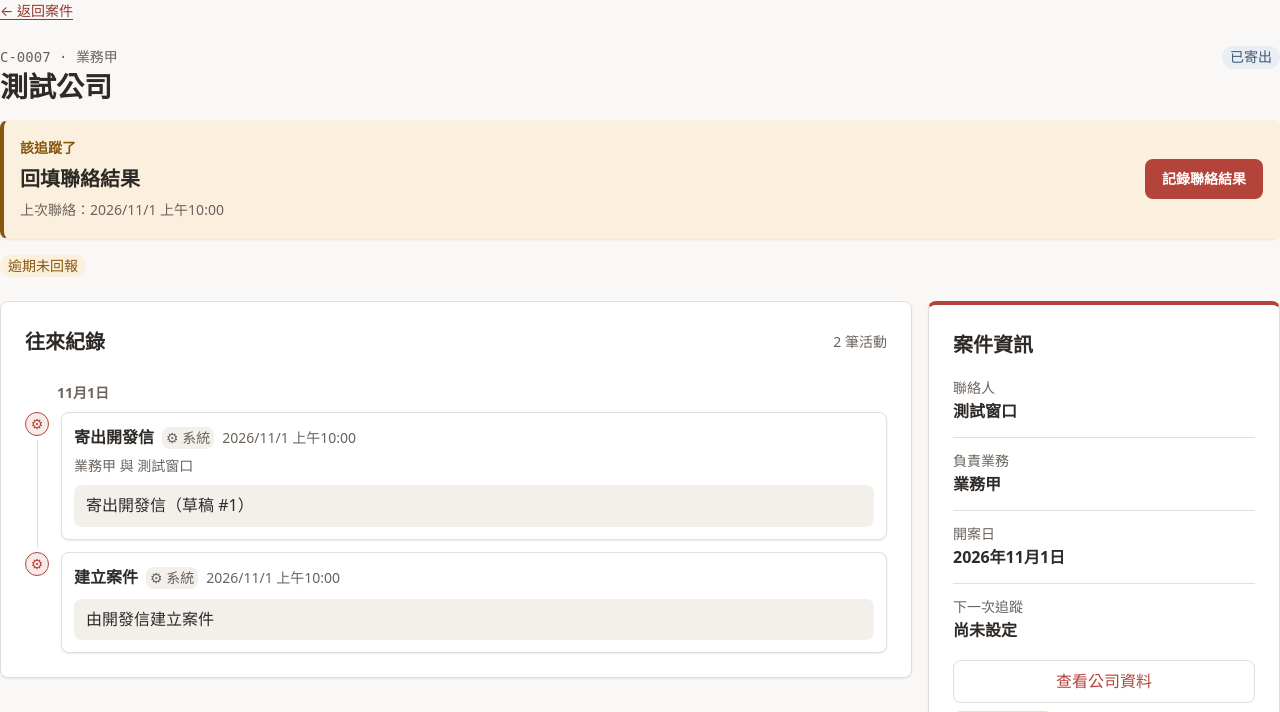
Test case: M3-11 案件頁 › test_f_case_2_backfill_form_posts_update：回填送出管道、結果、備註、下次追蹤日
Expected: the text "寄出開發信（草稿 #1）" is shown, [74,485,874,527]
Click the button "記錄聯絡結果". click: (1204, 179)
box: [1145,159,1263,199]
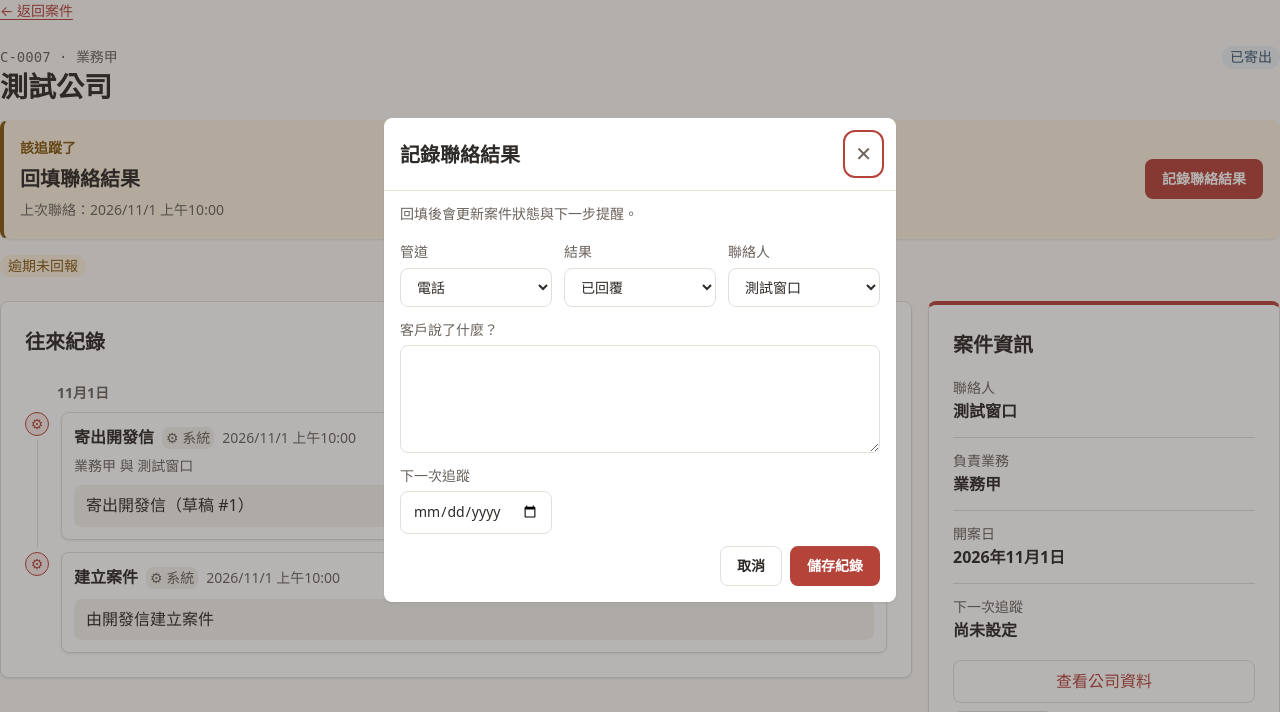
Select "拜訪" in the dropdown labelled "管道". click: (476, 287)
box: [400,268,552,307]
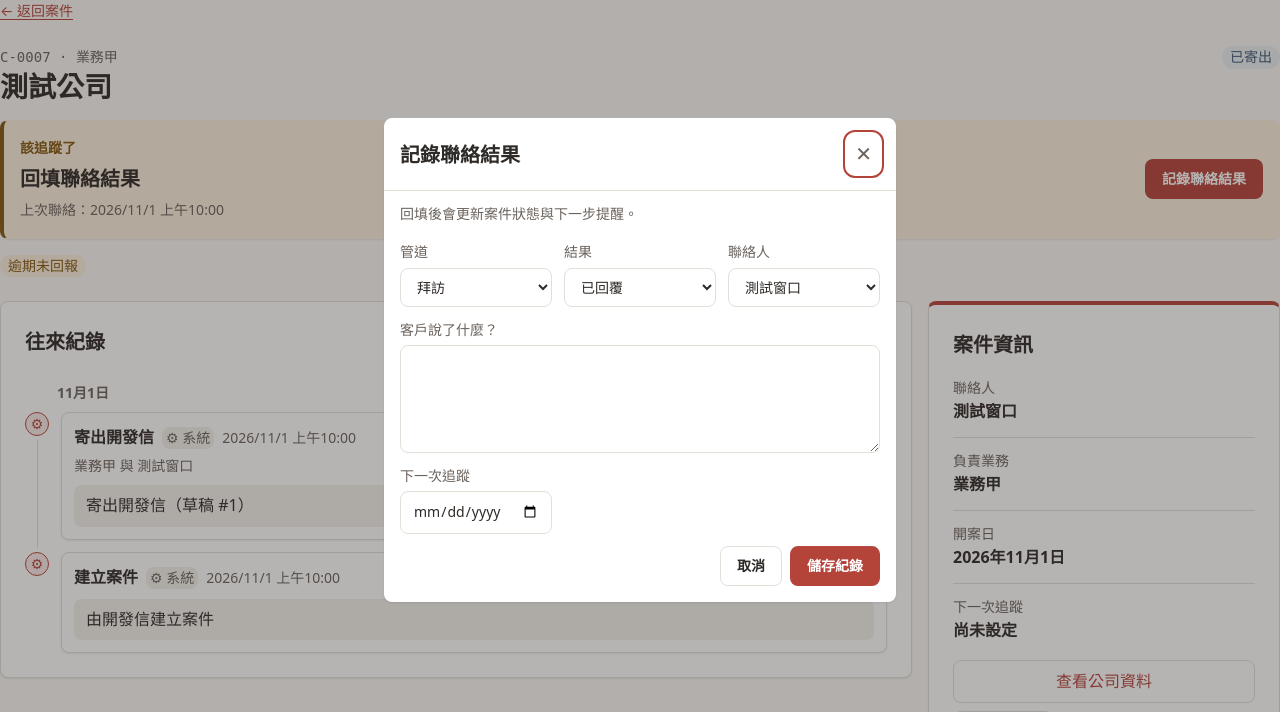
Select "洽談中" in the dropdown labelled "結果". click: (640, 287)
box: [564,268,716,307]
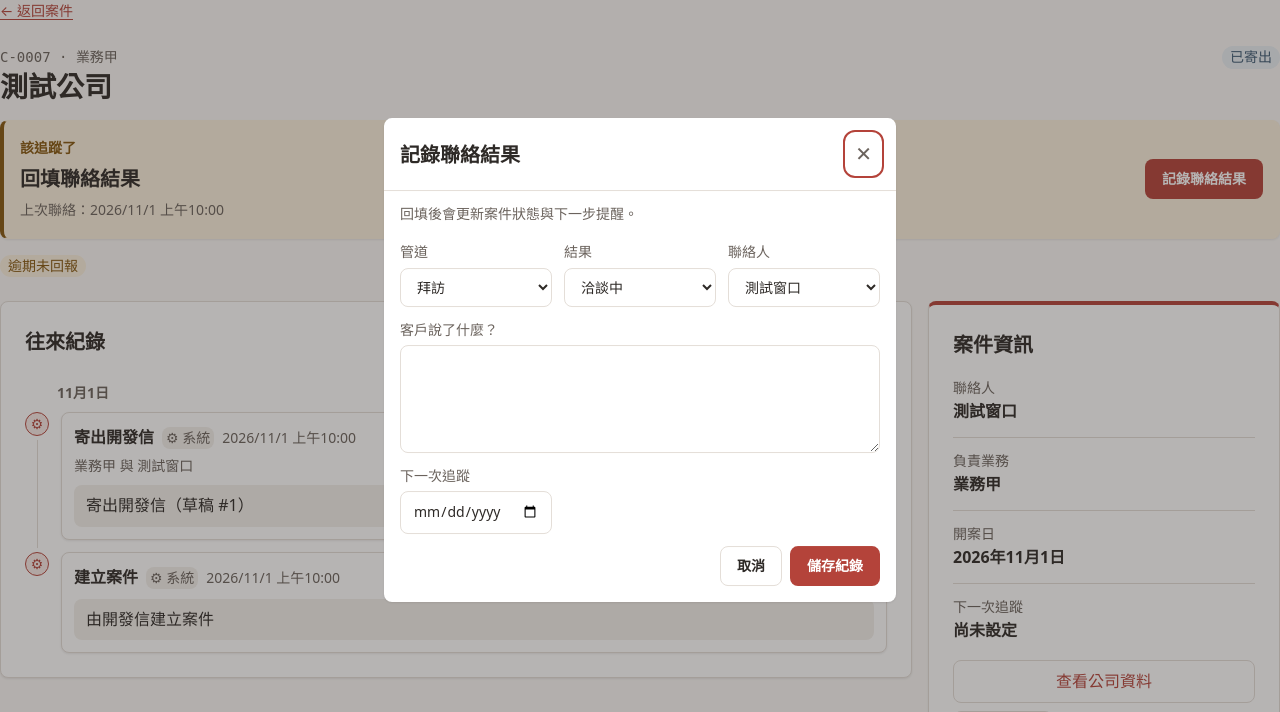
Type "  客戶要報價  " into the text box labelled "客戶說了什麼？". click: (640, 399)
box: [400,345,880,453]
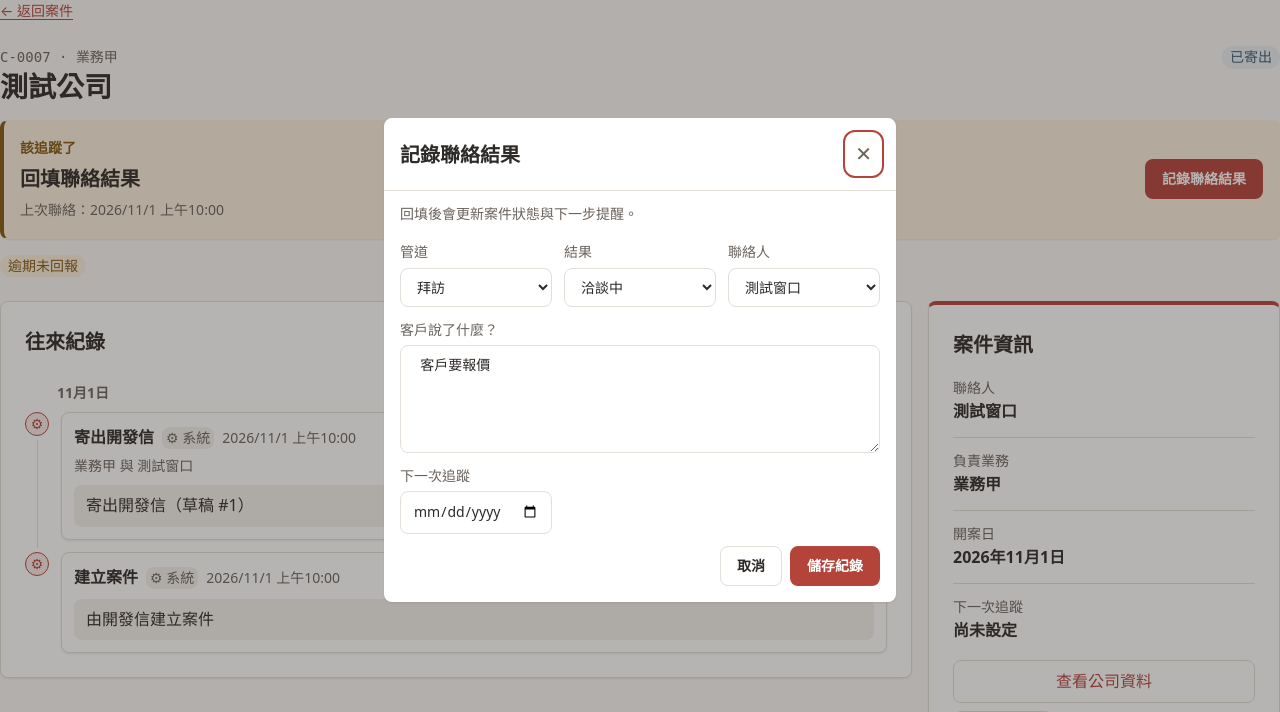
Type "2099-01-02" into the date field labelled "下一次追蹤". click: (476, 512)
box: [400,491,552,534]
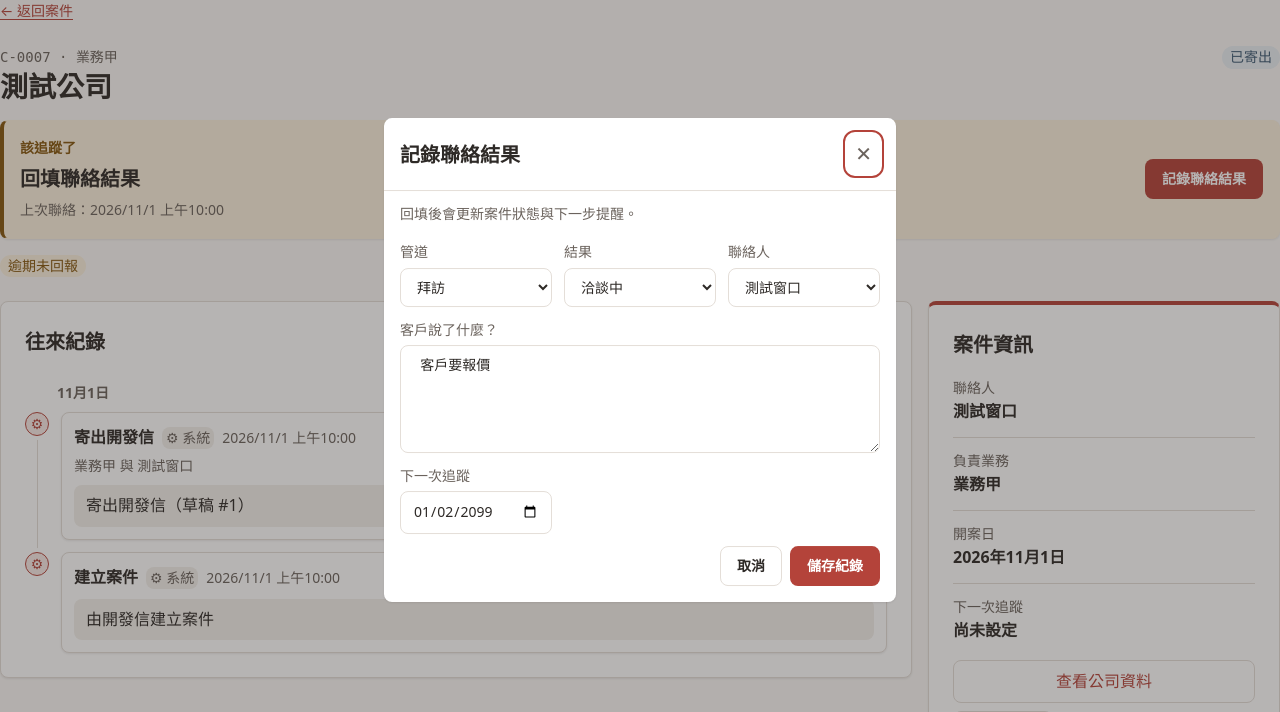
Click the button "儲存紀錄". click: (835, 566)
box: [790,546,880,586]
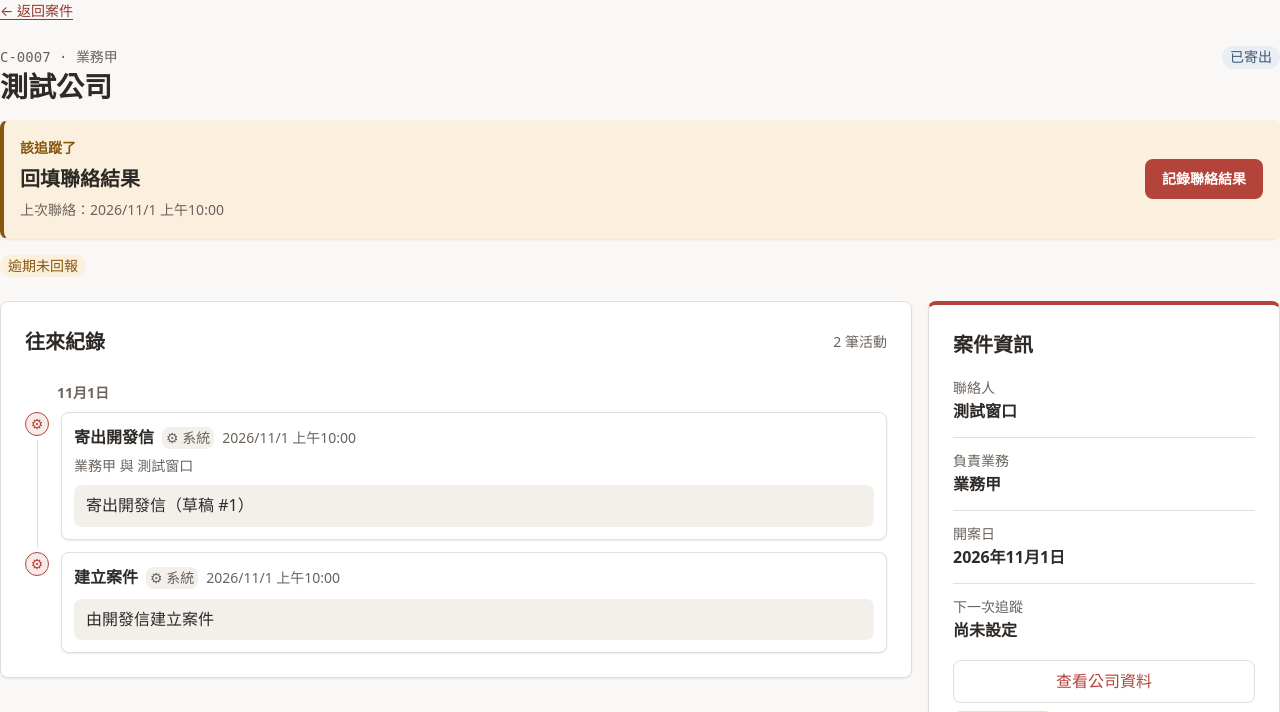
Expected: the dialog is gone
